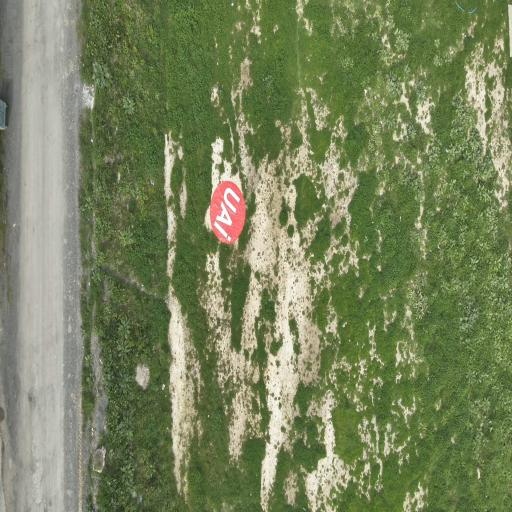UAI: (210, 182, 245, 244)
